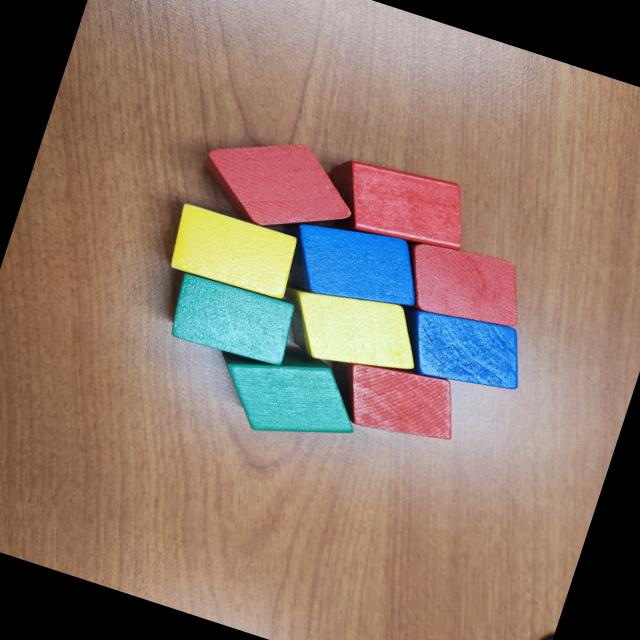blue: (276, 204, 436, 325), (386, 292, 538, 404)
green: (198, 322, 374, 462), (162, 266, 306, 374)
red: (190, 118, 368, 252), (326, 149, 480, 262), (387, 228, 536, 339), (326, 348, 468, 458)
yellow: (274, 270, 434, 392), (156, 197, 306, 306)
